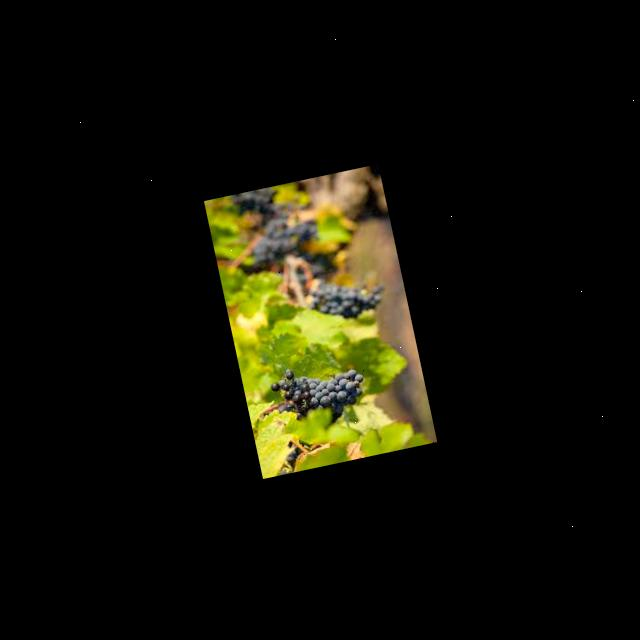grape: (255, 353, 371, 436)
